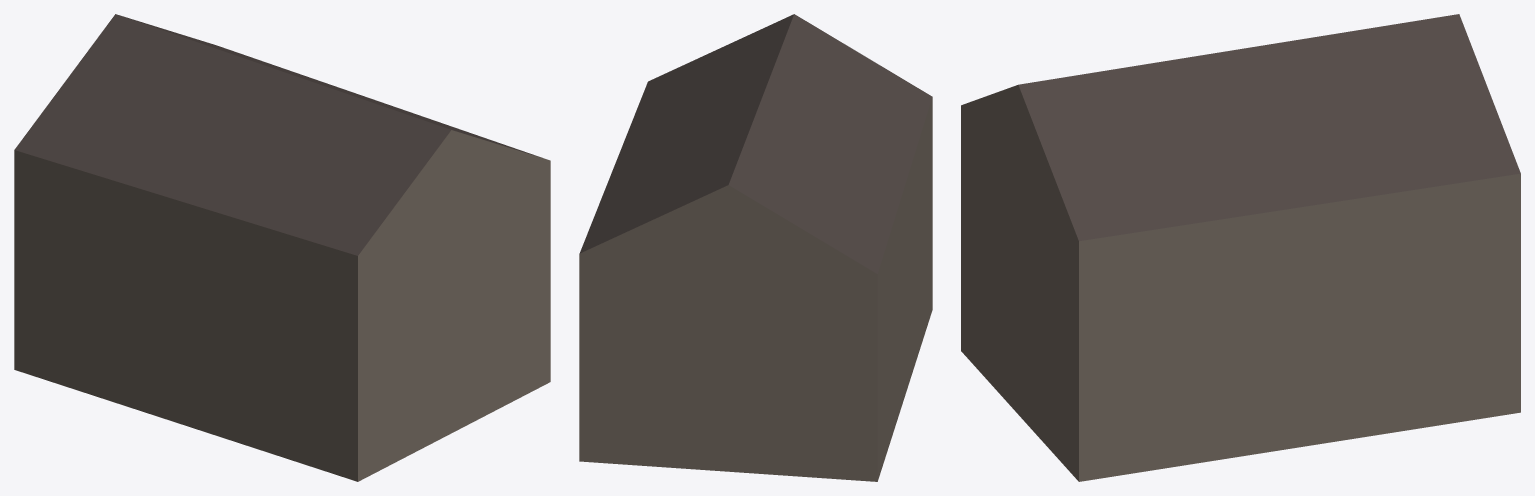
The picture shows the model from 3 angles, left to right: view 1: azimuth 30°, elevation 25°; view 2: azimuth 150°, elevation 25°; view 3: azimuth 270°, elevation 25°; orthographic projection. The views are drawn at different scales.
Visible parts, largest first — view 1: HP-w776800991; view 2: HP-w776800991; view 3: HP-w776800991.
Boxes of the visible parts, box(x1,y1,x2,y2) form: HP-w776800991: box(14, 14, 550, 481); HP-w776800991: box(579, 14, 932, 481); HP-w776800991: box(961, 14, 1520, 481).
Bounding box in the file's own units: 11.13 × 8.28 × 12.74.
